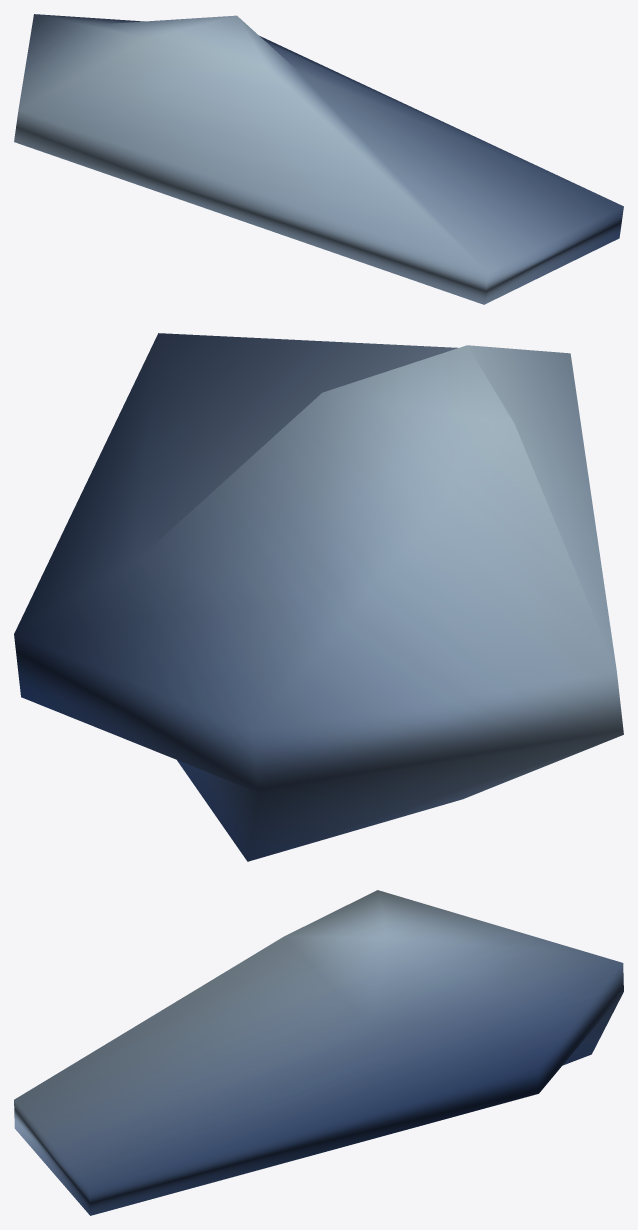
Rendered from boulder5.fbx.
3 renders of one model, top to bottom at view 1: azimuth 30°, elevation 25°; view 2: azimuth 150°, elevation 25°; view 3: azimuth 270°, elevation 25°, orthographic. The views are drawn at different scales.
Visible parts, largest first — view 1: boulder5; view 2: boulder5; view 3: boulder5.
Part boxes in pixels (x1,y1,x2,y2): boulder5: (14, 14, 623, 304); boulder5: (14, 333, 623, 861); boulder5: (14, 890, 623, 1215).
Size of the model in its own units: 0.0266 by 0.0103 by 0.0336.
Materials: 1 (1 with a texture image).
